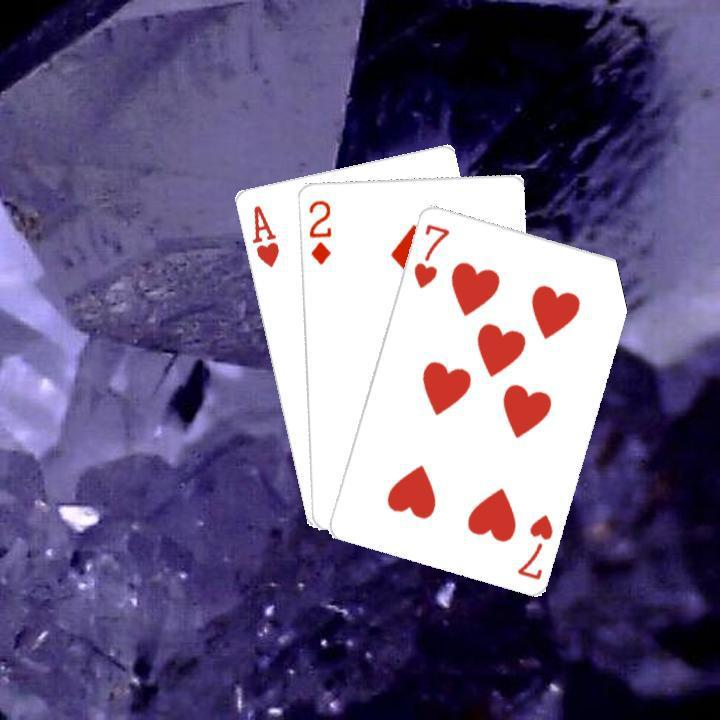2: (303, 195, 333, 266)
7: (512, 509, 555, 582), (408, 219, 452, 290)
A: (247, 201, 281, 269)
